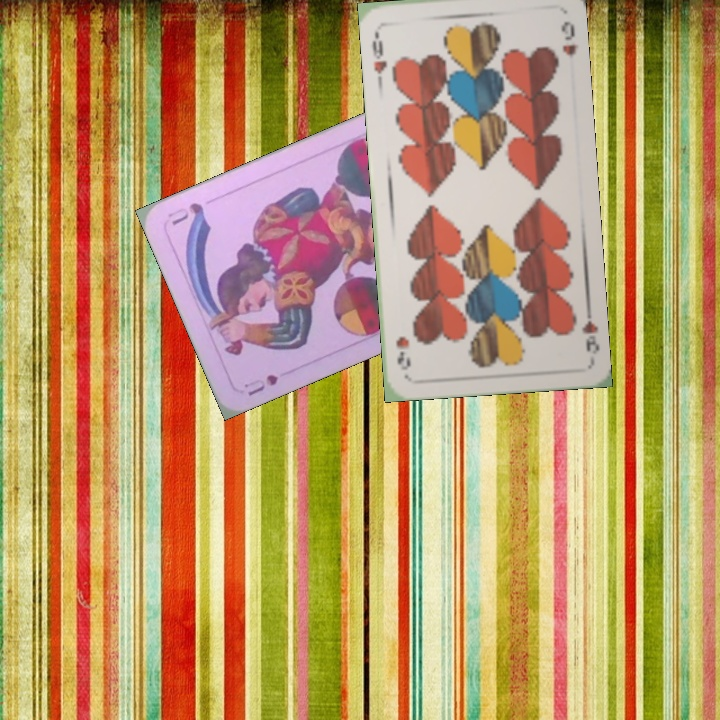H9: (578, 302, 602, 356), (368, 27, 389, 86)
SU: (240, 370, 282, 399)
